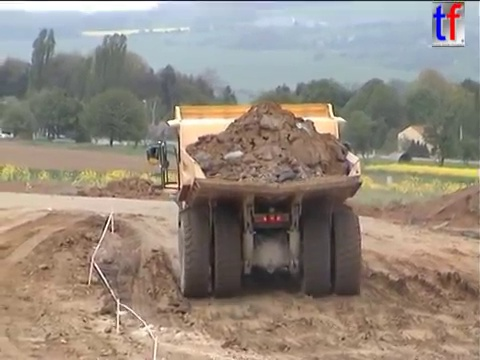truck: (142, 100, 365, 299)
